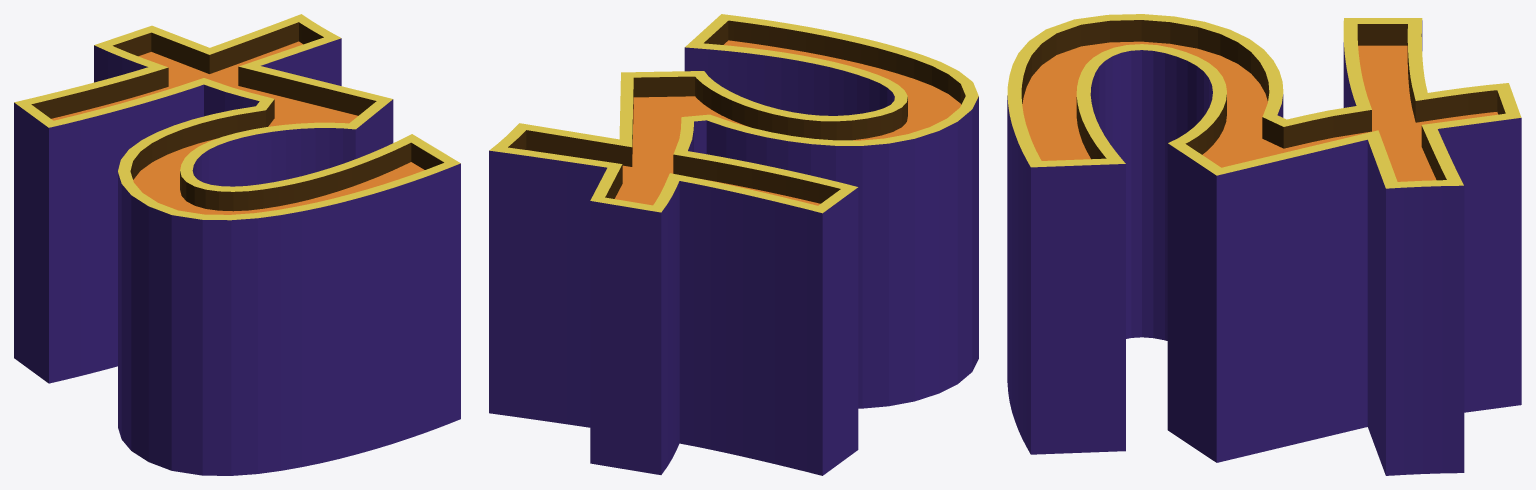
The picture shows the model from 3 angles, left to right: view 1: azimuth 30°, elevation 25°; view 2: azimuth 150°, elevation 25°; view 3: azimuth 270°, elevation 25°; orthographic projection. The views are drawn at different scales.
Visible parts, largest first — view 1: sa; view 2: sa; view 3: sa.
Part boxes in pixels (x1=…): sa: x1=14, y1=14, x2=460, y2=475; sa: x1=489, y1=14, x2=978, y2=475; sa: x1=1007, y1=14, x2=1521, y2=475.
Size of the model in its own units: 0.1813 by 0.139 by 0.2255.
